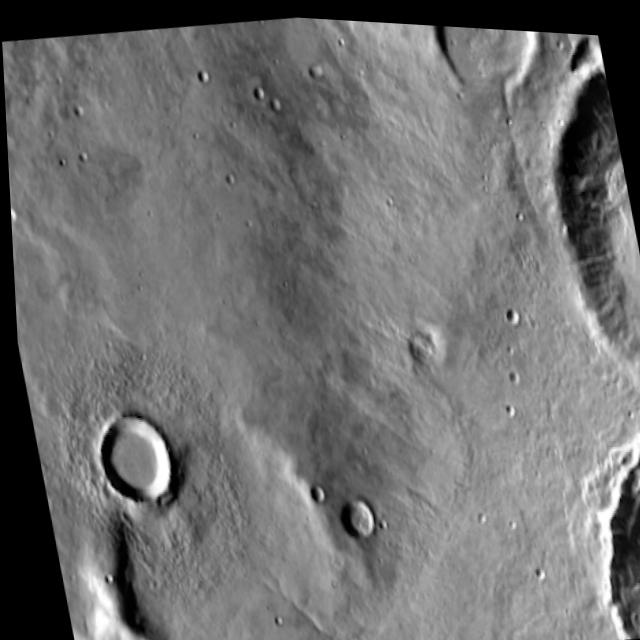Crater: (36, 431, 374, 640), (508, 24, 640, 445), (540, 378, 640, 639), (67, 378, 186, 547), (426, 20, 563, 115), (323, 469, 390, 561), (204, 637, 344, 640)
